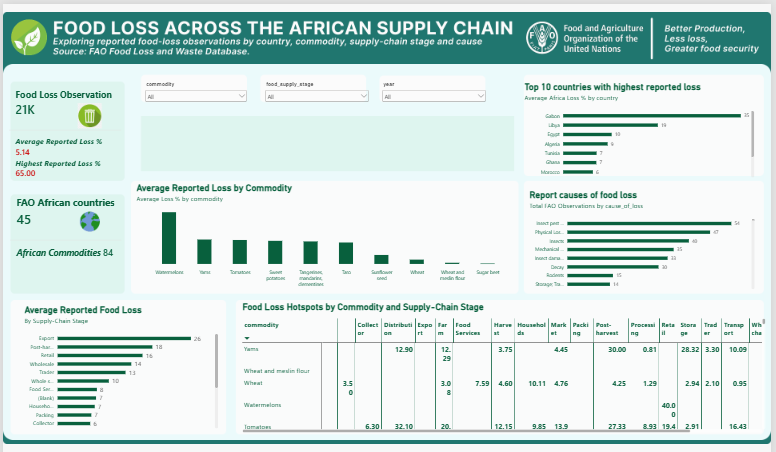

What the dashboard file says about the page in this screenshot:
{"tool":"powerbi","page":{"name":"Africa Food Loss (FAO)","canvas":[1920,1080],"ordinal":2},"visuals":[{"type":"cardVisual","fields":{"Data":["_Measures.Total FAO Observations"]},"box":[14,130.2,281.4,269.8],"z":0},{"type":"cardVisual","fields":{"Data":["_Measures.FAO African Countries"]},"box":[16.3,400,279.1,279.1],"z":1000},{"type":"clusteredBarChart","title":"Average Reported Food Loss ","fields":{"Y":["_Measures.Average Loss %"],"Category":["Africa.food_supply_stage"]},"box":[37.2,688.4,516.3,339.5],"z":2000},{"type":"columnChart","title":"Average Reported Loss by Commodity","fields":{"Category":["Africa.commodity"],"Y":["_Measures.Average Loss %"]},"box":[316.3,383.7,960.5,295.3],"z":3000},{"type":"clusteredBarChart","title":"Top 10  countries with highest reported loss","fields":{"Y":["_Measures.Average Africa Loss %"],"Category":["Africa.country"]},"box":[1288.4,130.2,607,269.8],"z":4000},{"type":"pivotTable","title":"Food Loss Hotspots by Commodity and Supply-Chain Stage","fields":{"Rows":["Africa.commodity"],"Values":["_Measures.Average Loss %"],"Columns":["Africa.food_supply_stage"]},"box":[581.4,679.1,1339.5,358.1],"z":5000},{"type":"clusteredBarChart","title":"Report causes of food loss","fields":{"Y":["_Measures.Total FAO Observations"],"Category":["Africa.cause_of_loss"]},"box":[1300,400,595.3,279.1],"z":7000},{"type":"slicer","fields":{"Values":["Africa.commodity"]},"box":[350,130,265,62.5],"z":8000},{"type":"slicer","fields":{"Values":["Africa.food_supply_stage"]},"box":[662.5,130,240,57.5],"z":9000},{"type":"slicer","fields":{"Values":["Africa.year"]},"box":[942.5,130,270,62.5],"z":10000},{"type":"textbox","box":[482.5,220,795,162.5],"z":10001}]}

Visuals, with their boxes on the page's 1920x1080 design canvas (x1, y1, x2, y2). These are canvas units, not pixel positions in the 776x452 screenshot, which may show the page scaled, cropped or inside an application window:
cardVisual - _Measures.Total FAO Observations: rect(14, 130, 295, 400)
cardVisual - _Measures.FAO African Countries: rect(16, 400, 295, 679)
"Average Reported Food Loss " clusteredBarChart: rect(37, 688, 554, 1028)
"Average Reported Loss by Commodity" columnChart: rect(316, 384, 1277, 679)
"Top 10  countries with highest reported loss" clusteredBarChart: rect(1288, 130, 1895, 400)
"Food Loss Hotspots by Commodity and Supply-Chain Stage" pivotTable: rect(581, 679, 1921, 1037)
"Report causes of food loss" clusteredBarChart: rect(1300, 400, 1895, 679)
slicer - Africa.commodity: rect(350, 130, 615, 192)
slicer - Africa.food_supply_stage: rect(662, 130, 902, 188)
slicer - Africa.year: rect(942, 130, 1212, 192)
textbox: rect(482, 220, 1278, 382)
